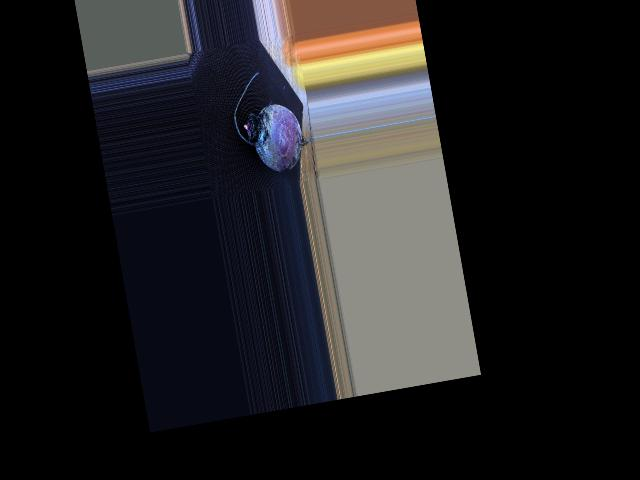beet: (226, 64, 318, 178)
